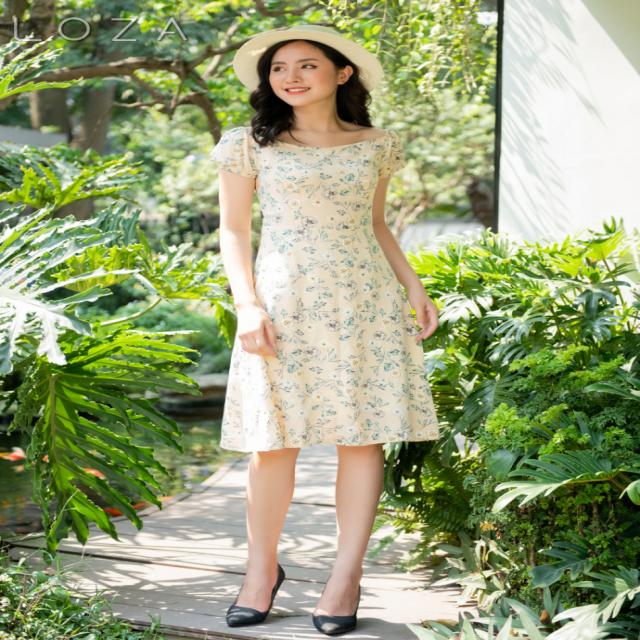clothes: (195, 123, 452, 453)
